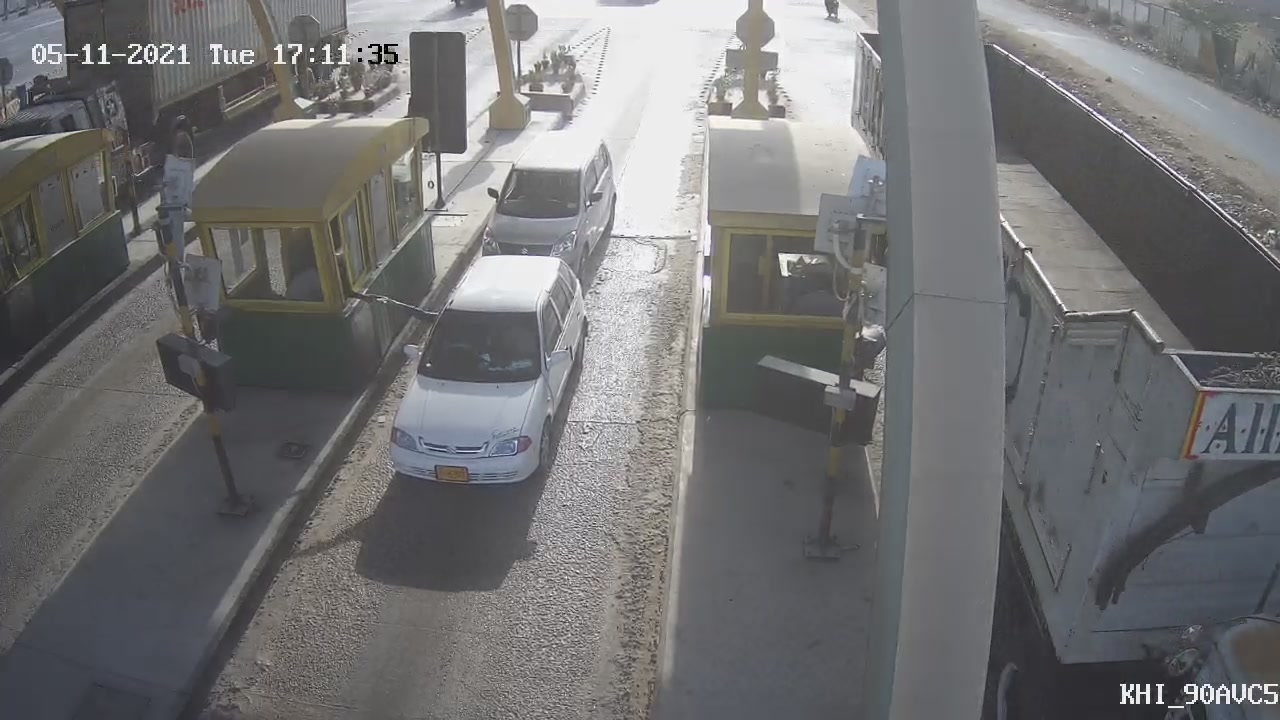F1: (368, 239, 609, 507), (466, 120, 635, 298)
